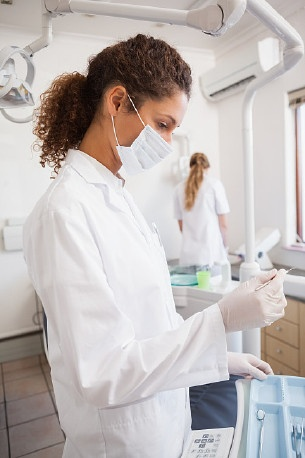Mask: (107, 94, 187, 174)
